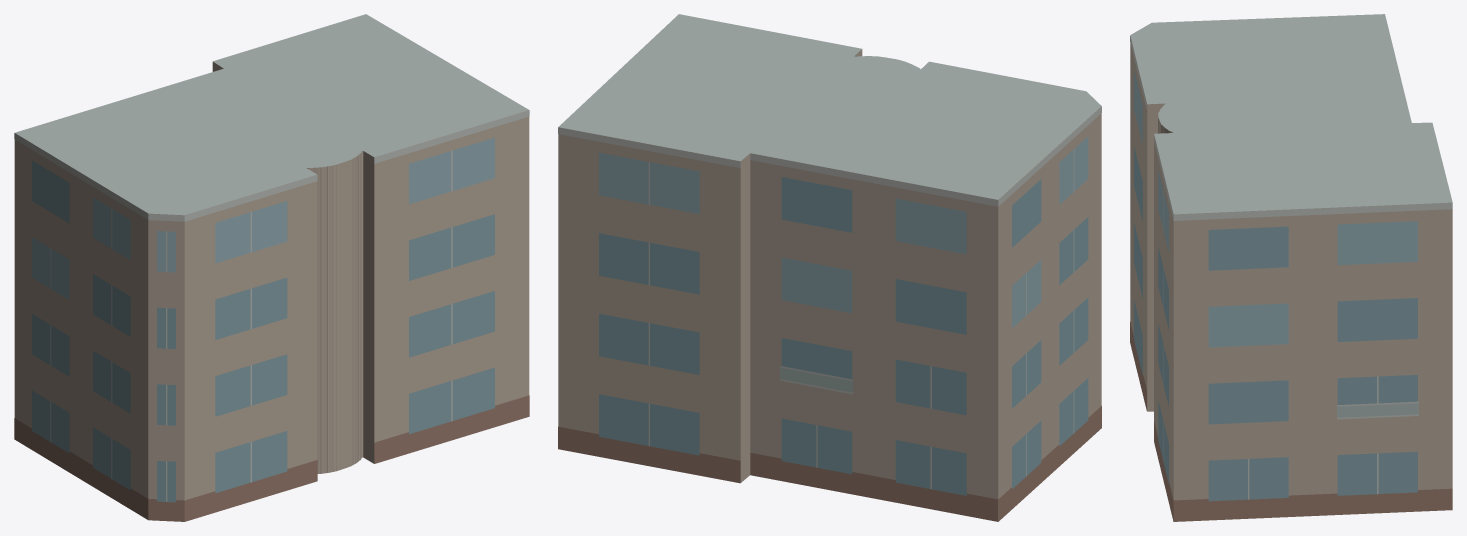
Rendered from survey-upis-32664226.glb.
3 renders of one model, left to right at view 1: azimuth 30°, elevation 25°; view 2: azimuth 150°, elevation 25°; view 3: azimuth 270°, elevation 25°, orthographic. The views are drawn at different scales.
Parts seen in each view (by area): view 1: survey-upis-32664226.tmp; view 2: survey-upis-32664226.tmp; view 3: survey-upis-32664226.tmp.
Part boxes in pixels (left/top/right/bottom): survey-upis-32664226.tmp: left=14, top=14, right=529, bottom=521; survey-upis-32664226.tmp: left=558, top=14, right=1101, bottom=521; survey-upis-32664226.tmp: left=1130, top=14, right=1452, bottom=521.
Size of the model in its own units: 16.08 by 11.5 by 10.94.
